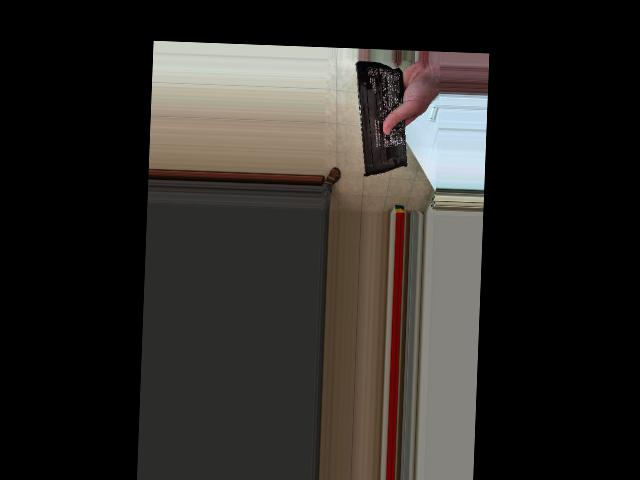chocolate: (353, 63, 407, 180)
